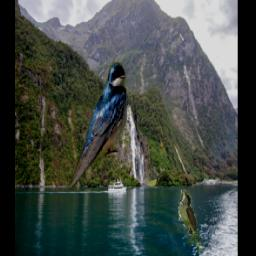Cuckoo: (179, 190, 203, 254)
Swallow: (70, 58, 128, 191)
